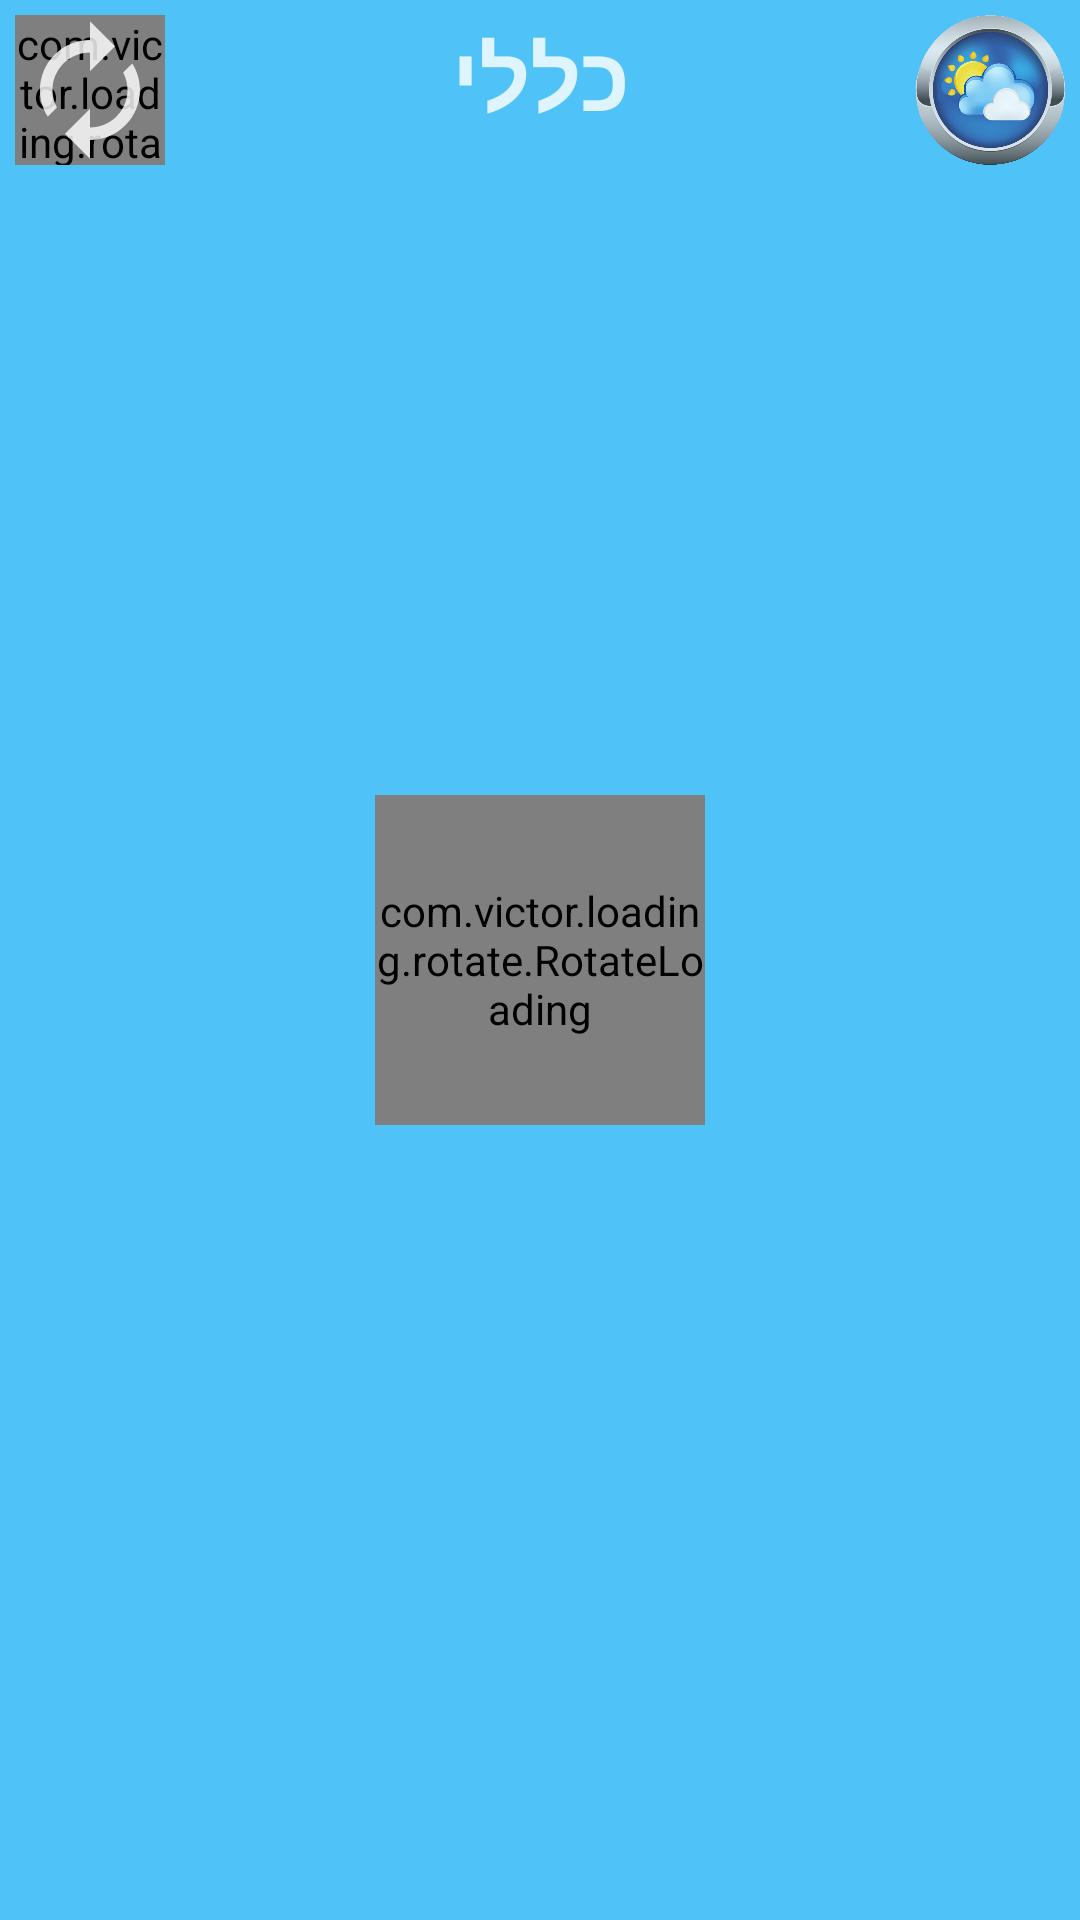

Screen size 1080*1920. Icon name, then its center in pixels as [x,y]:
refresh: [90,90]
